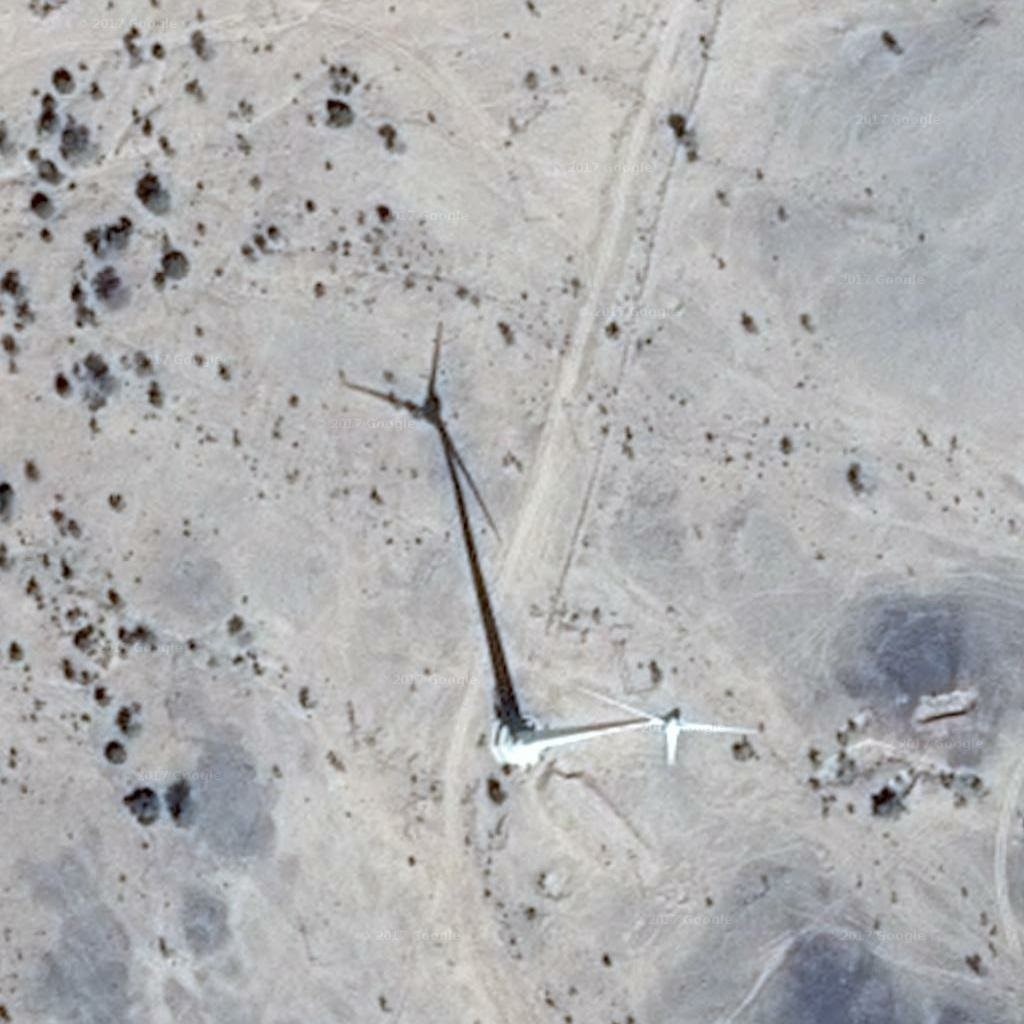Windmill: (334, 330, 532, 710)
